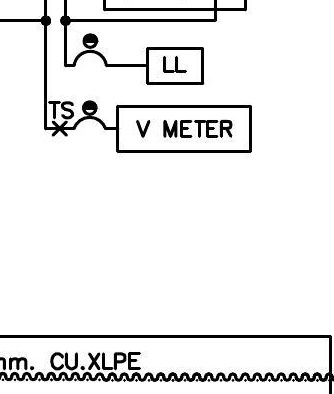LL: (145, 46, 205, 86)
v_m_digital: (115, 104, 253, 154)
